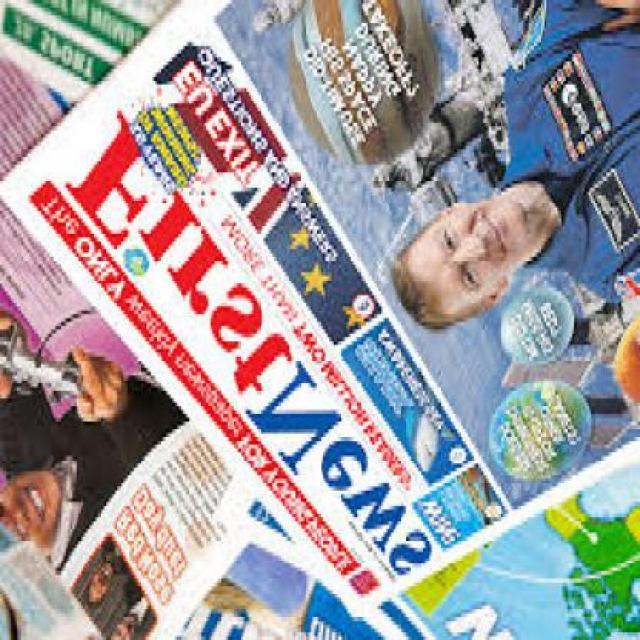PAPER: (0, 4, 638, 625), (0, 53, 252, 638), (291, 460, 638, 638), (0, 3, 172, 107), (211, 460, 306, 578)
